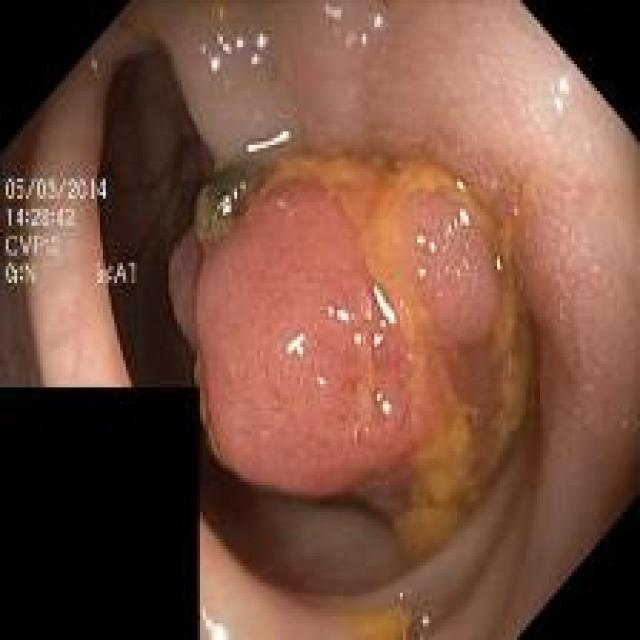Polyps: (196, 156, 531, 559)
